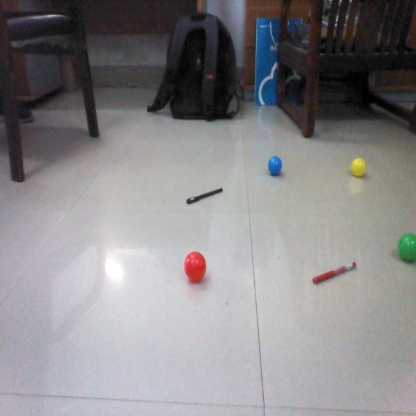ball: (184, 252, 208, 284), (394, 233, 416, 264), (267, 154, 286, 177), (348, 157, 367, 179)
pen: (311, 261, 360, 284), (186, 188, 224, 203)
